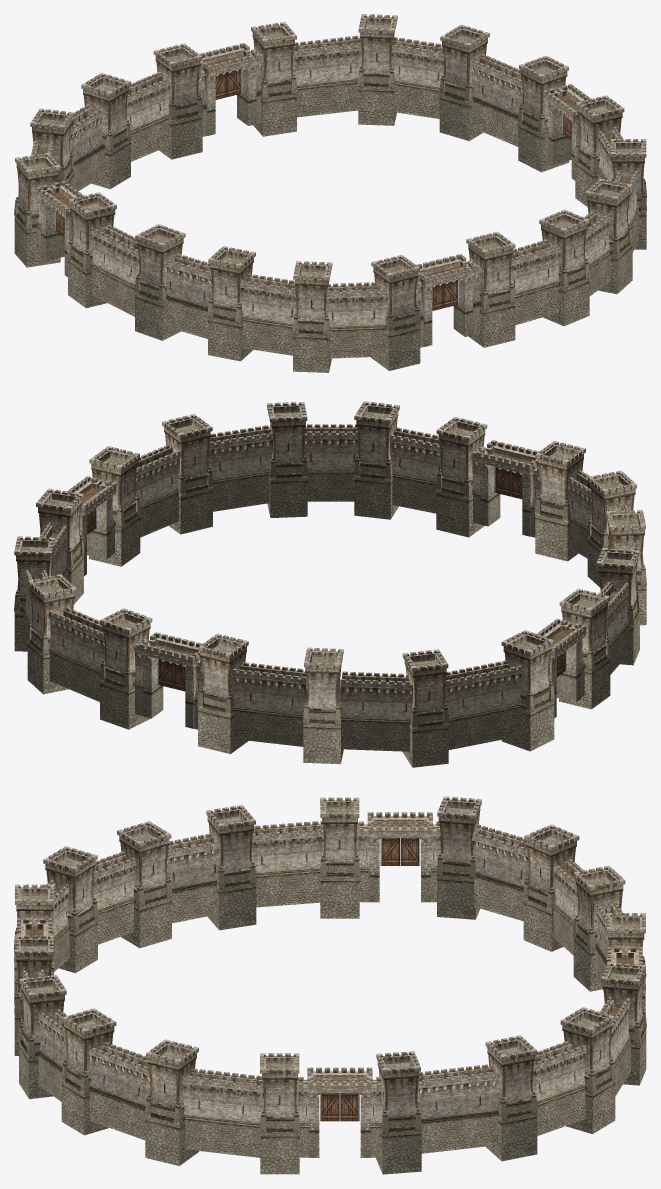
File: campaign_curtainwall_hele.obj
3 views of the same model, one above another, from view 1: azimuth 30°, elevation 25°; view 2: azimuth 150°, elevation 25°; view 3: azimuth 270°, elevation 25° (orthographic). The views are drawn at different scales.
Visible parts, largest first — view 1: rome_wall033; view 2: rome_wall033; view 3: rome_wall033.
Boxes of the visible parts, <box> form: rome_wall033: <box>14,14,646,372</box>; rome_wall033: <box>14,401,646,767</box>; rome_wall033: <box>14,796,646,1174</box>.
Size of the model in its own units: 44.77 by 7.93 by 43.63.
